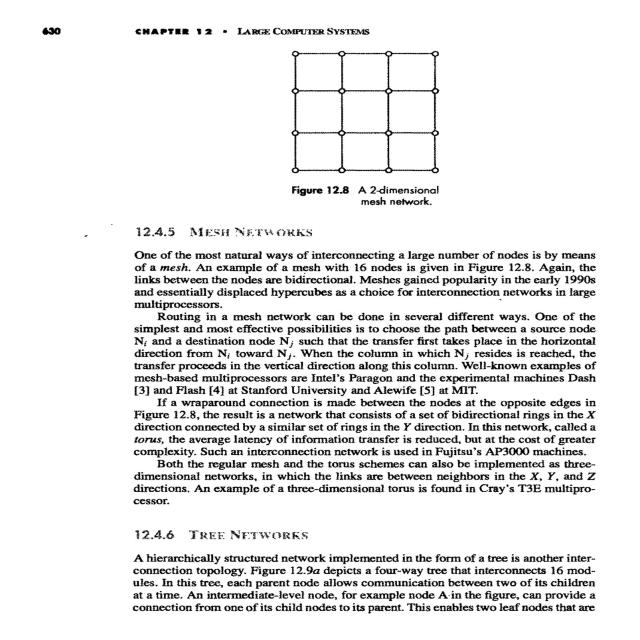diagram: (188, 48, 552, 210)
